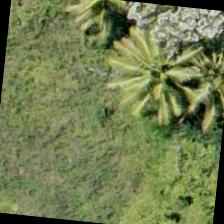Kelapa_Sawit: (108, 22, 207, 121), (168, 32, 223, 128)
